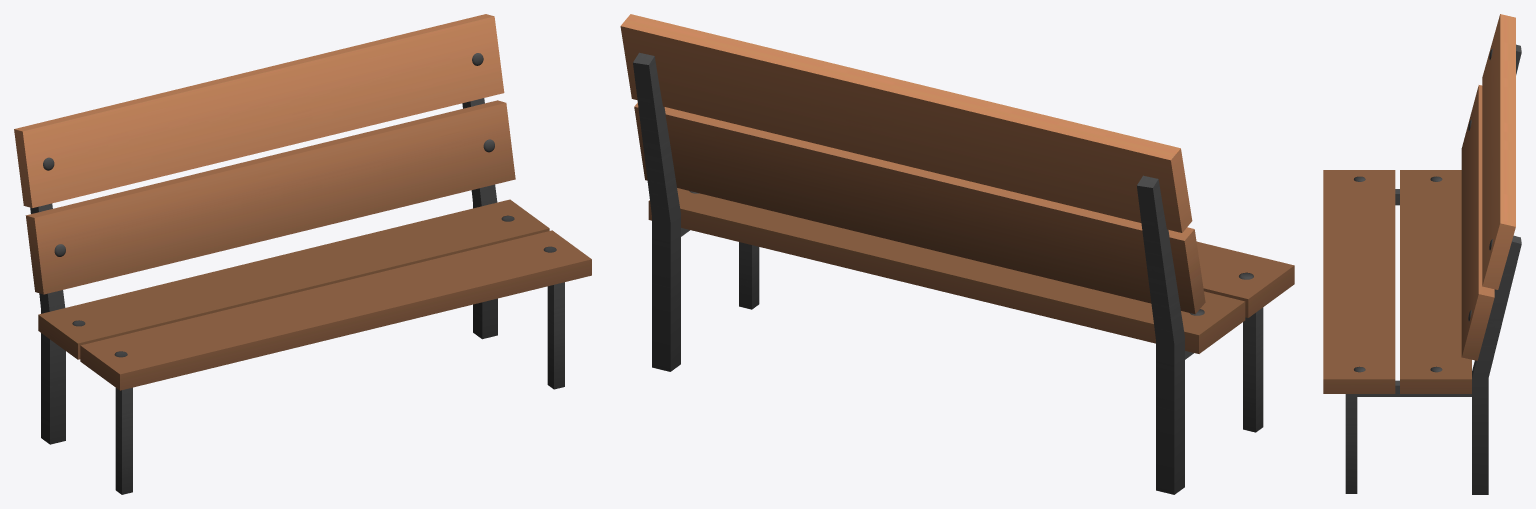
Rendered from bench.fbx.
3 renders of one model, left to right at view 1: azimuth 30°, elevation 25°; view 2: azimuth 150°, elevation 25°; view 3: azimuth 270°, elevation 25°, orthographic. The views are drawn at different scales.
Parts seen in each view (by area): view 1: bench; view 2: bench; view 3: bench.
Part boxes in pixels (x1,y1,x2,y2): bench: (14,14,591,494); bench: (620,14,1294,494); bench: (1323,14,1521,494).
Bounding box in the file's own units: 166 × 103 × 66.75.
